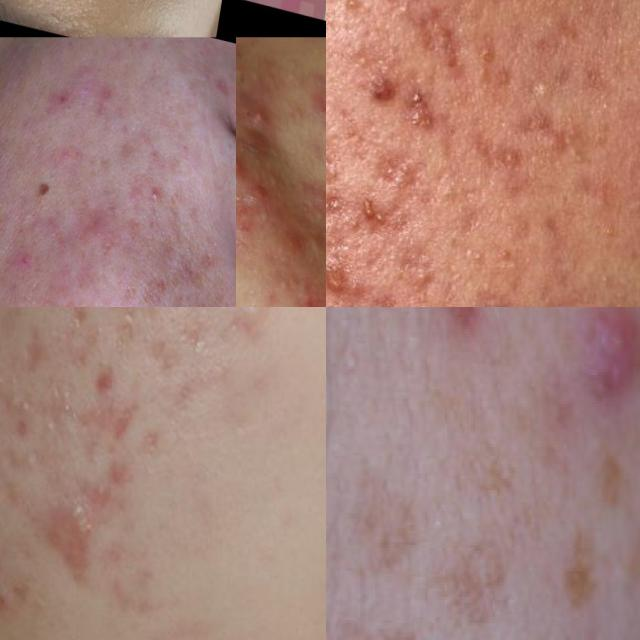acne_scars: (421, 0, 470, 68), (74, 399, 138, 450), (100, 590, 168, 620), (471, 146, 531, 178), (106, 320, 144, 365), (150, 338, 179, 389), (466, 279, 516, 307), (108, 463, 138, 490), (0, 584, 10, 631)
comedone: (0, 387, 37, 420), (24, 451, 40, 484), (40, 411, 58, 440)
papule: (36, 489, 105, 578), (89, 72, 125, 124), (88, 358, 123, 409), (326, 248, 348, 307), (44, 82, 82, 115)
pustule: (246, 94, 278, 144), (236, 144, 248, 193), (252, 297, 284, 307)
sebo-crystan-conglo: (388, 78, 447, 138)
syringoma: (27, 0, 128, 37)
